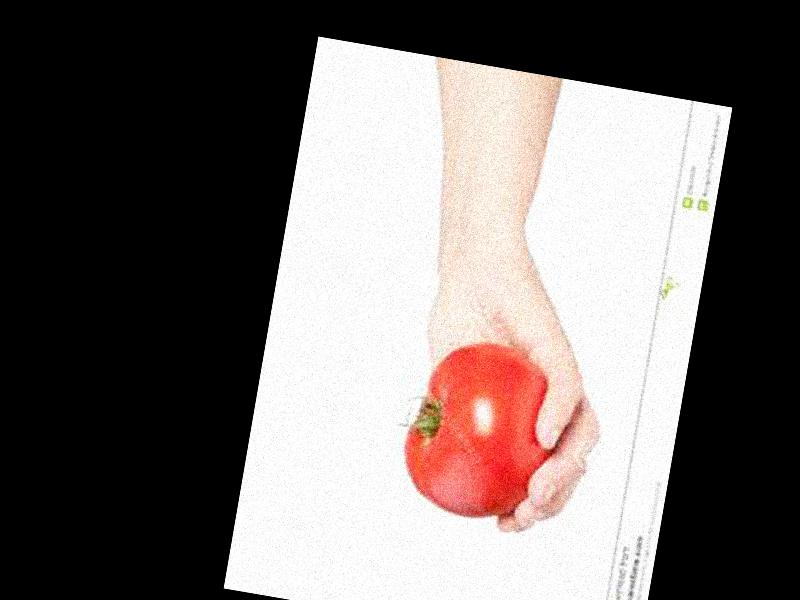Tomato: (392, 329, 568, 529)
